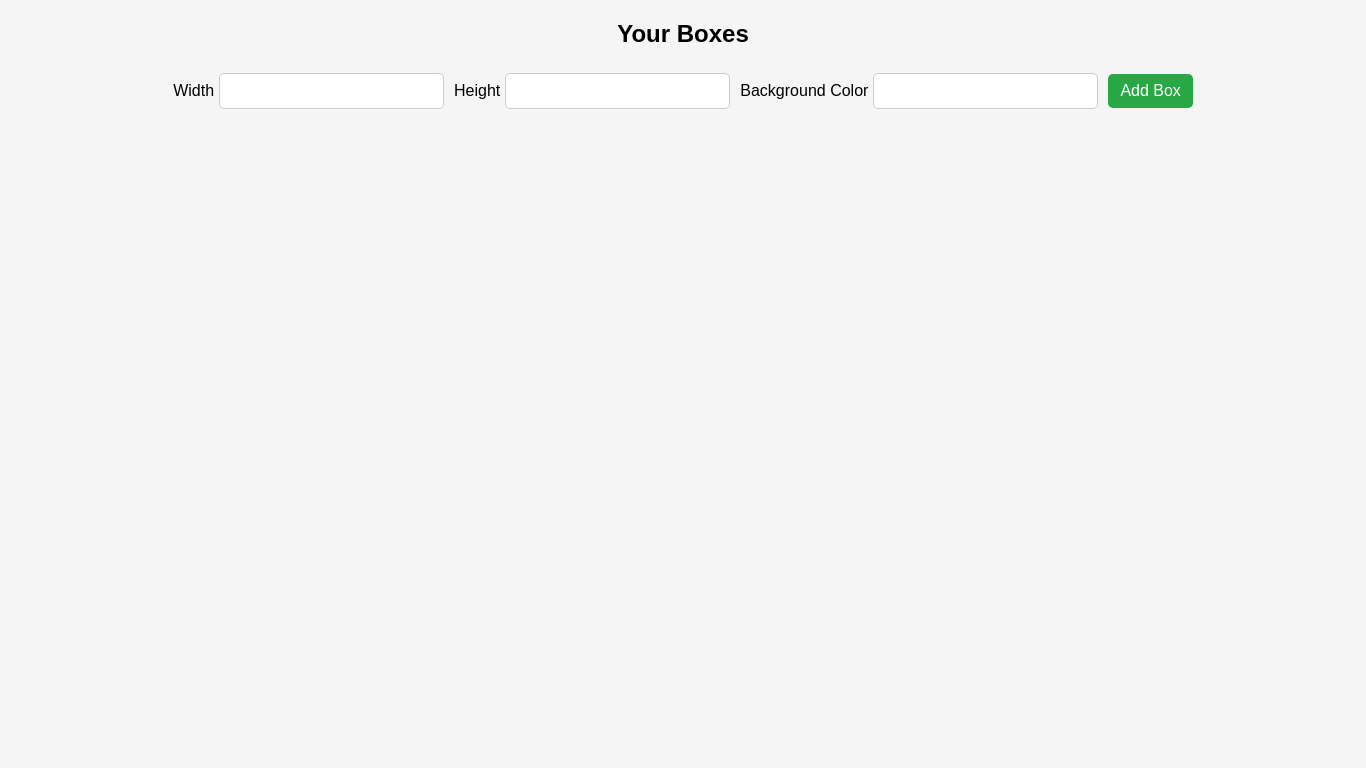
Scenario: can add a new box
# Simulate user input
Type "200" into the field labelled "Width". click: (332, 91)
box: [219, 73, 444, 109]
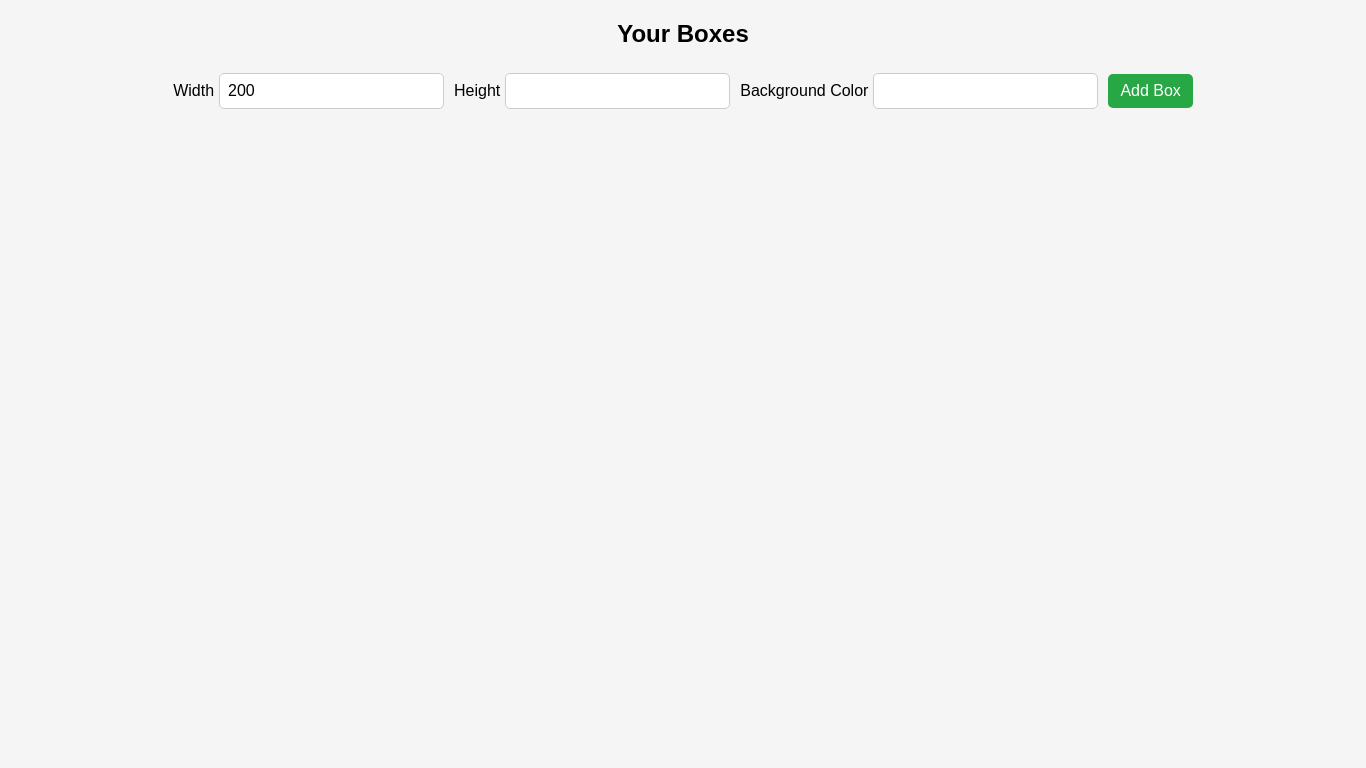
Type "200" into the field labelled "Height". click: (618, 91)
box: [505, 73, 730, 109]
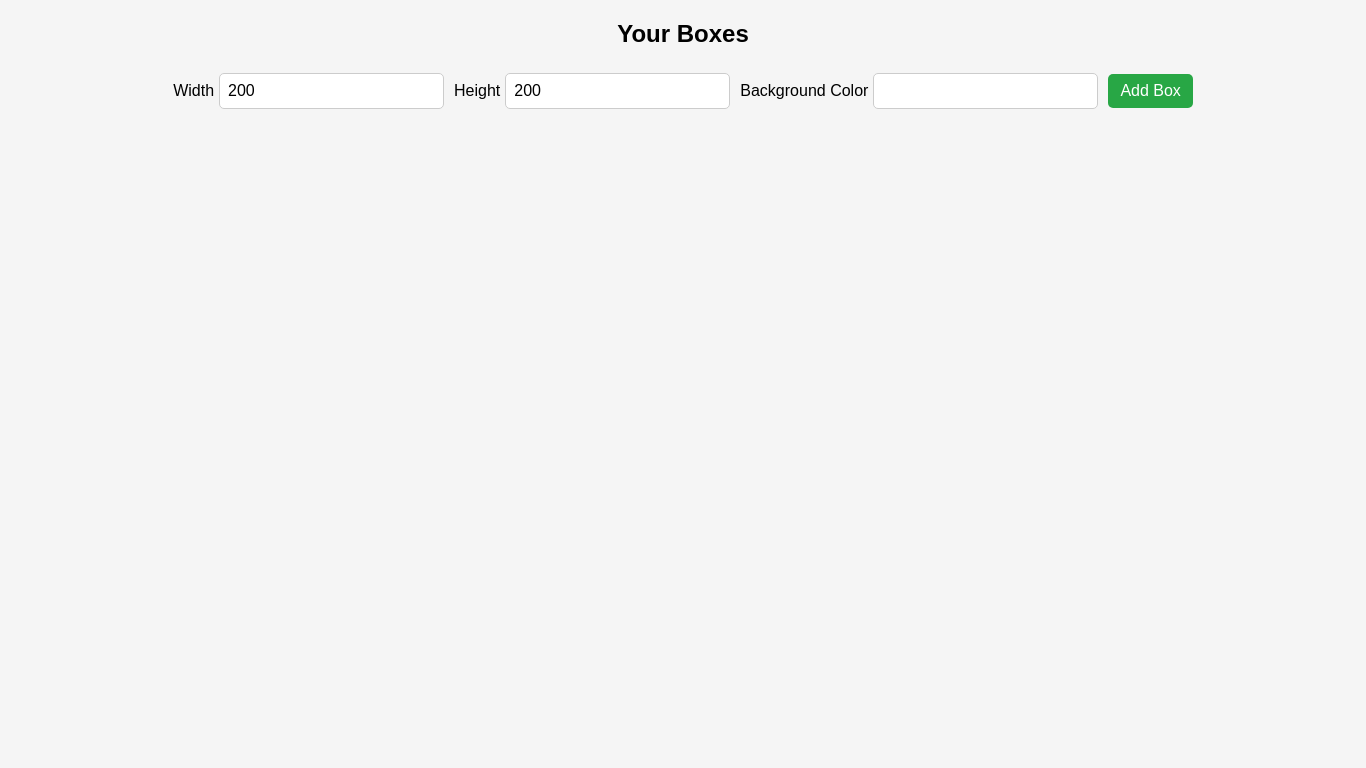
Type "red" into the field labelled "Background Color". click: (986, 91)
box: [873, 73, 1098, 109]
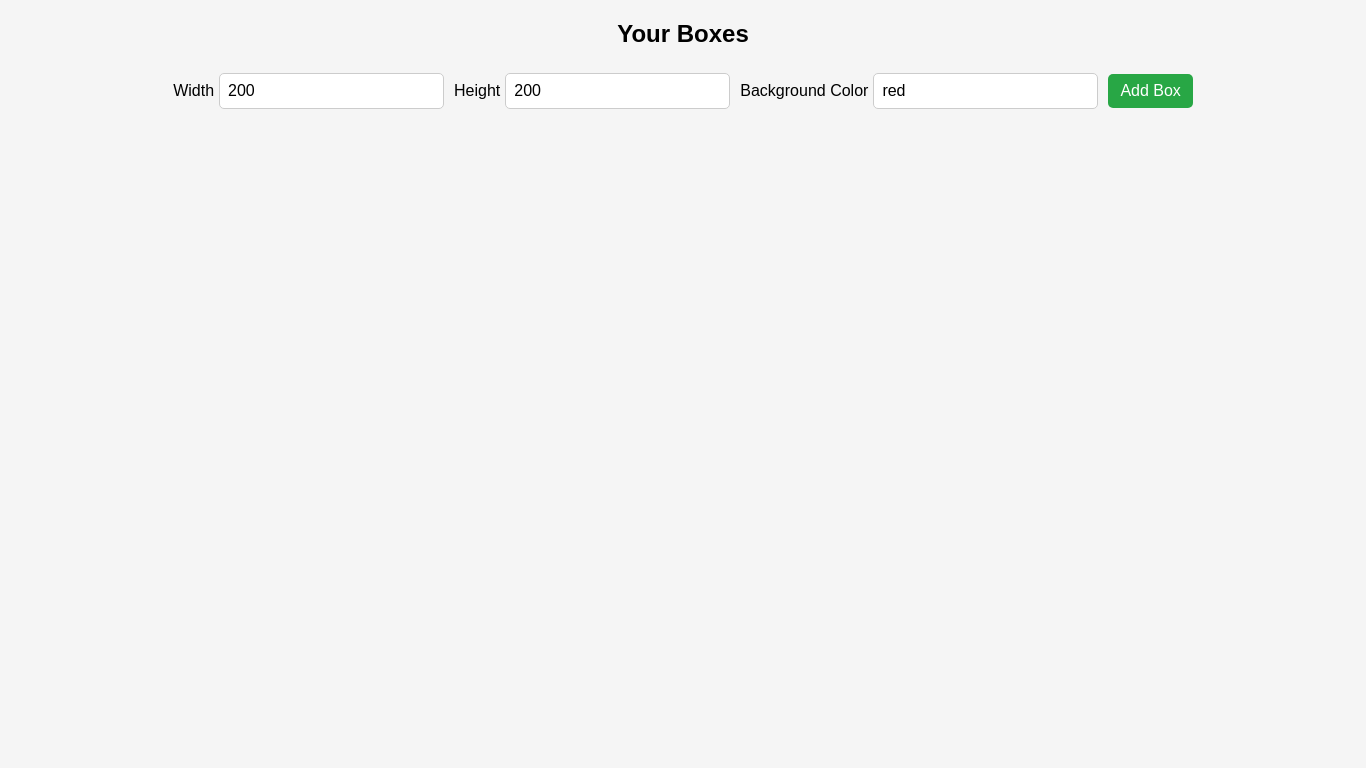
# Simulate form submission
Click the button "Add Box". click: (1151, 91)
box: [1108, 74, 1193, 108]
(page scrolled)
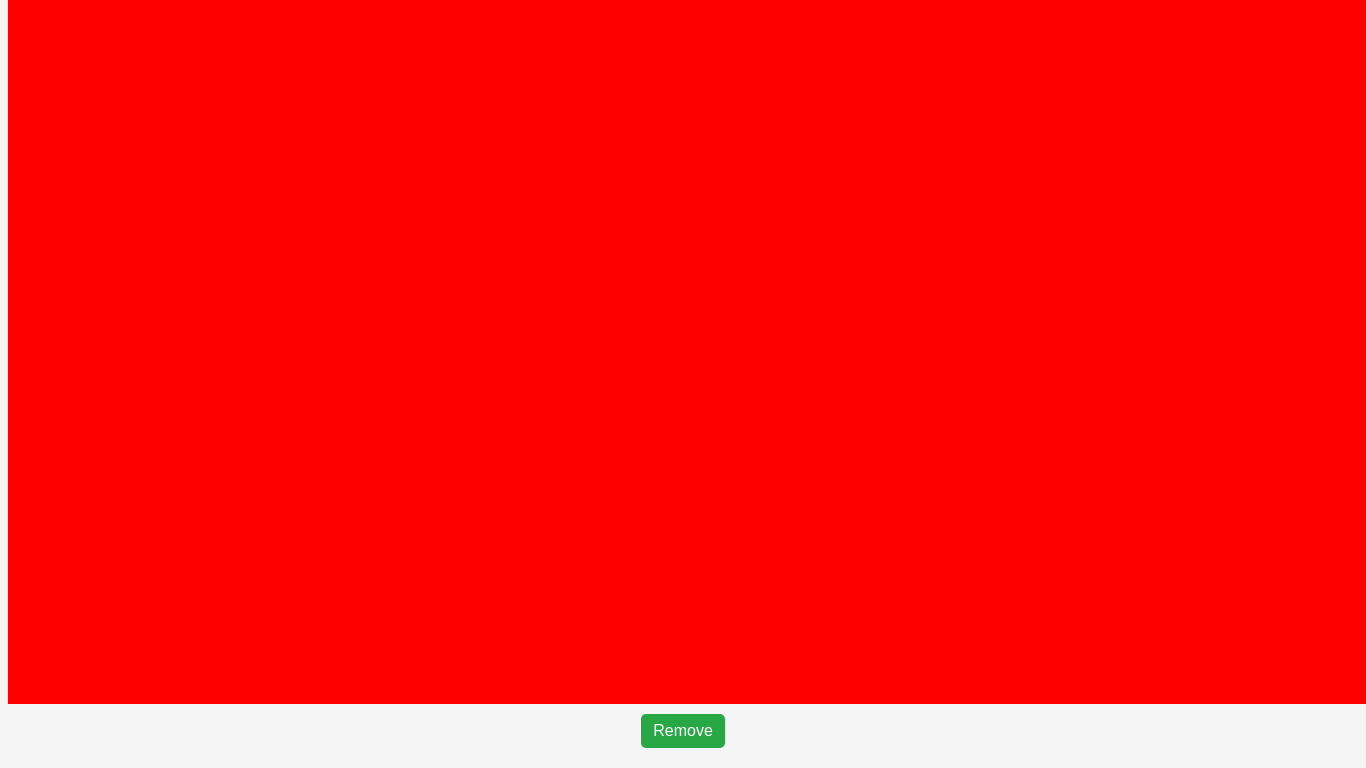
Now the button "Remove" is shown, box [641, 714, 725, 748]
